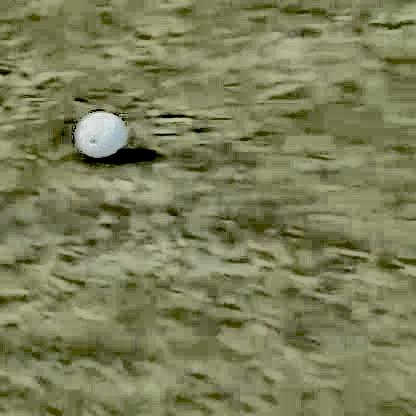golfball: (72, 105, 126, 159)
